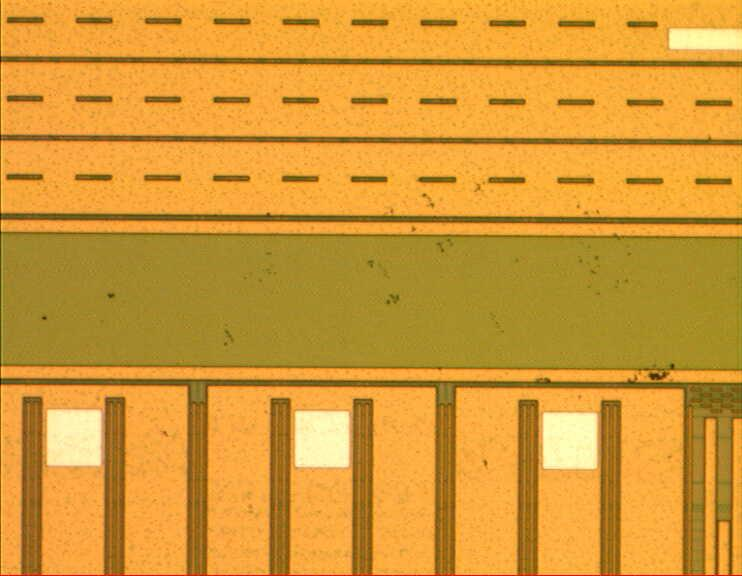PO CONTAMINATION: (35, 177, 680, 523)
